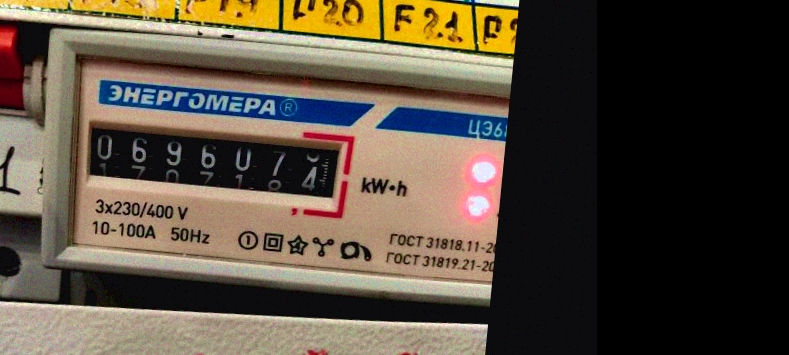0: (231, 141, 253, 172), (93, 130, 113, 160)
4: (299, 162, 317, 192)
6: (196, 139, 218, 170), (128, 133, 149, 162)
7: (267, 146, 287, 178)
9: (163, 137, 182, 166)
screen: (68, 101, 360, 217)
